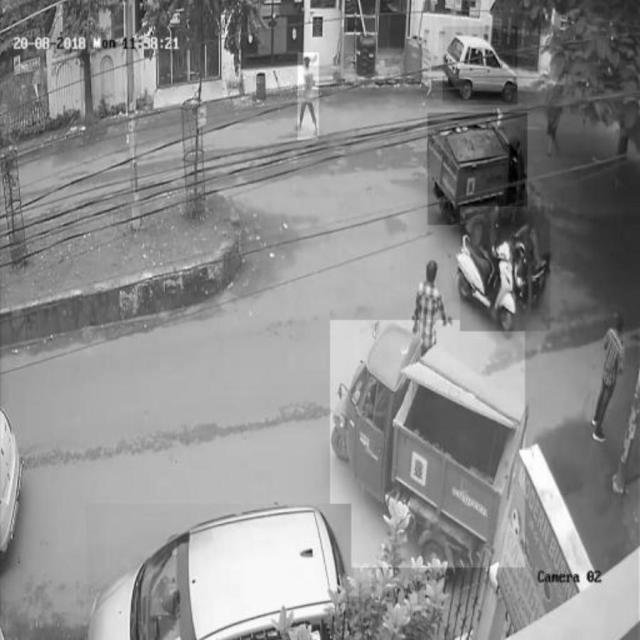accident: (460, 207, 550, 331)
person: (590, 304, 626, 448), (298, 52, 318, 140)
vehicle: (330, 320, 525, 568), (87, 504, 351, 640), (427, 113, 528, 225), (443, 27, 517, 105)
